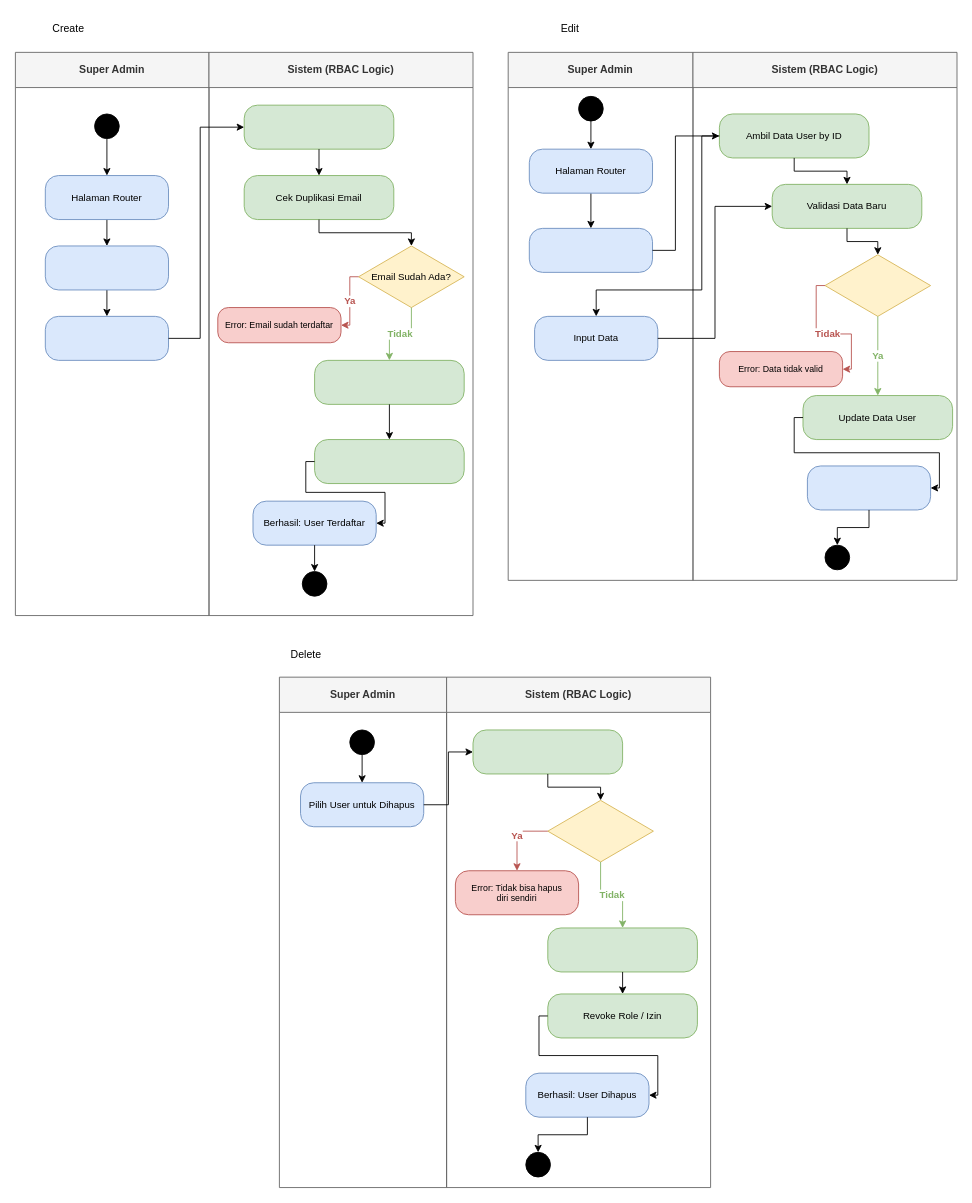
Image size: 972x1203. Some labels were removed from this diagram. The centre of each missing label's shape, as x and y in pixels:
Berhasil: Data Diperbarui: the point at 869,487
Cek User = Diri Sendiri?: the point at 547,751
Data Valid?: the point at 877,285
Hapus Akun Sendiri?: the point at 600,830
Hash Password (bcrypt): the point at 389,381
Input Data (Nama, Email, Password, Role): the point at 106,337
Klik Tombol Tambah: the point at 106,267
Pilih User: the point at 590,249
Simpan User & Assign Role (Casbin): the point at 389,461
Soft Delete User (set deleted_at): the point at 622,949
Validasi Format Input: the point at 318,126
